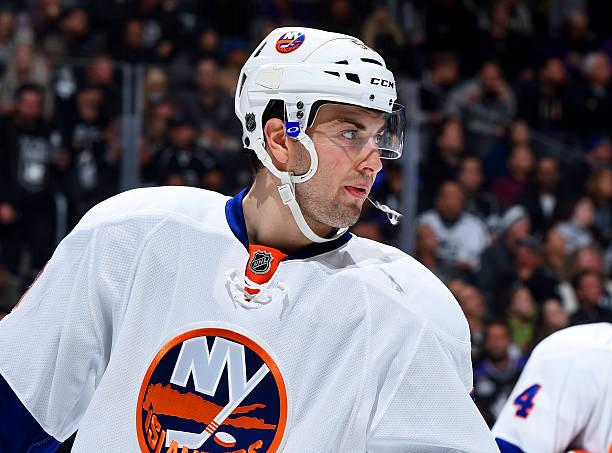Spitting: (176, 9, 467, 253)
